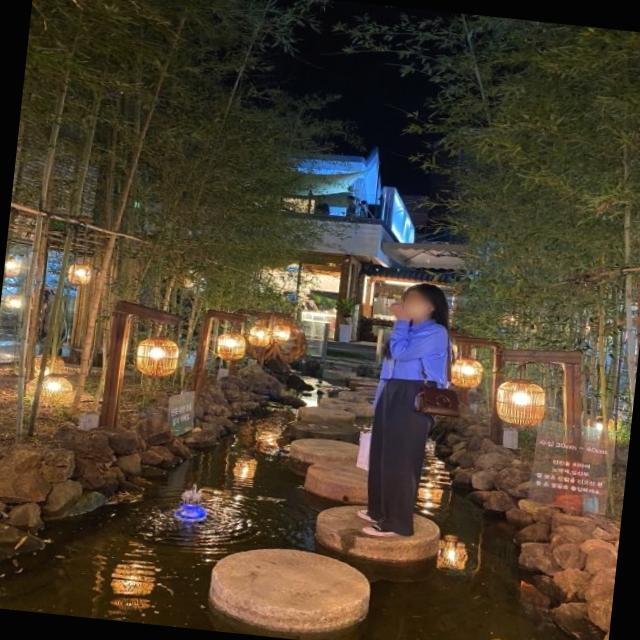shirt: (383, 312, 459, 388)
slacks: (358, 371, 436, 534)
